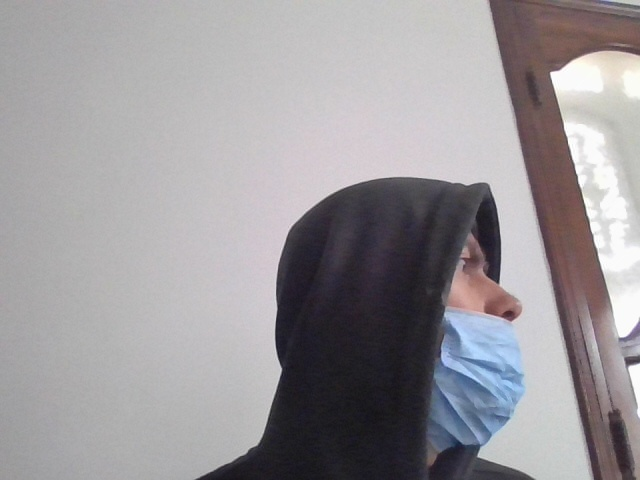mask_weared_incorrect: (406, 210, 538, 462)
